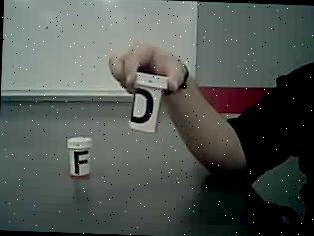Bottle D: (129, 69, 166, 141)
Bottle F: (64, 132, 98, 186)
